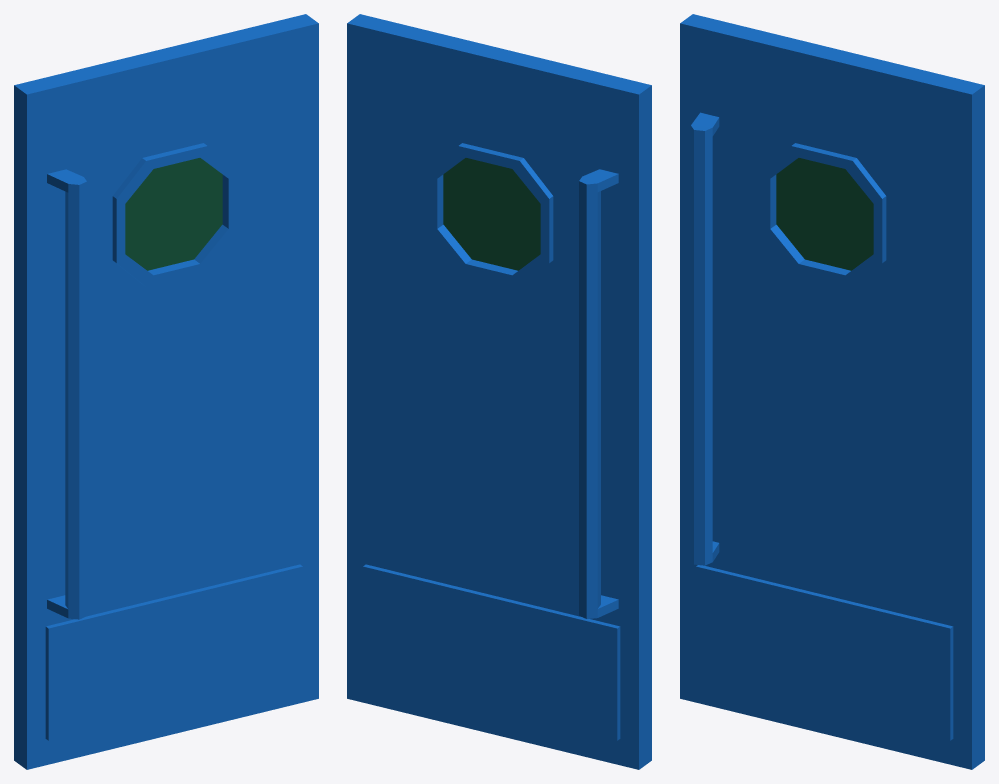
Rendered from T_door2.fbx.
3 renders of one model, left to right at view 1: azimuth 30°, elevation 25°; view 2: azimuth 150°, elevation 25°; view 3: azimuth 330°, elevation 25°, orthographic.
Visible parts, largest first — view 1: door2; view 2: door2; view 3: door2.
Boxes of the visible parts, box(x1,y1,x2,y2) form: door2: box(14, 14, 318, 769); door2: box(347, 14, 651, 769); door2: box(680, 14, 984, 769).
Size of the model in its own units: 87.82 by 194 by 26.57.
